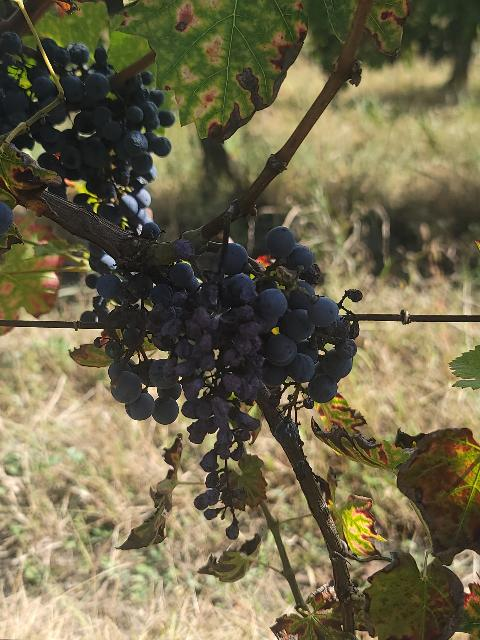grapes: (34, 44, 175, 231), (148, 261, 260, 471), (222, 226, 355, 401), (94, 271, 181, 424)
